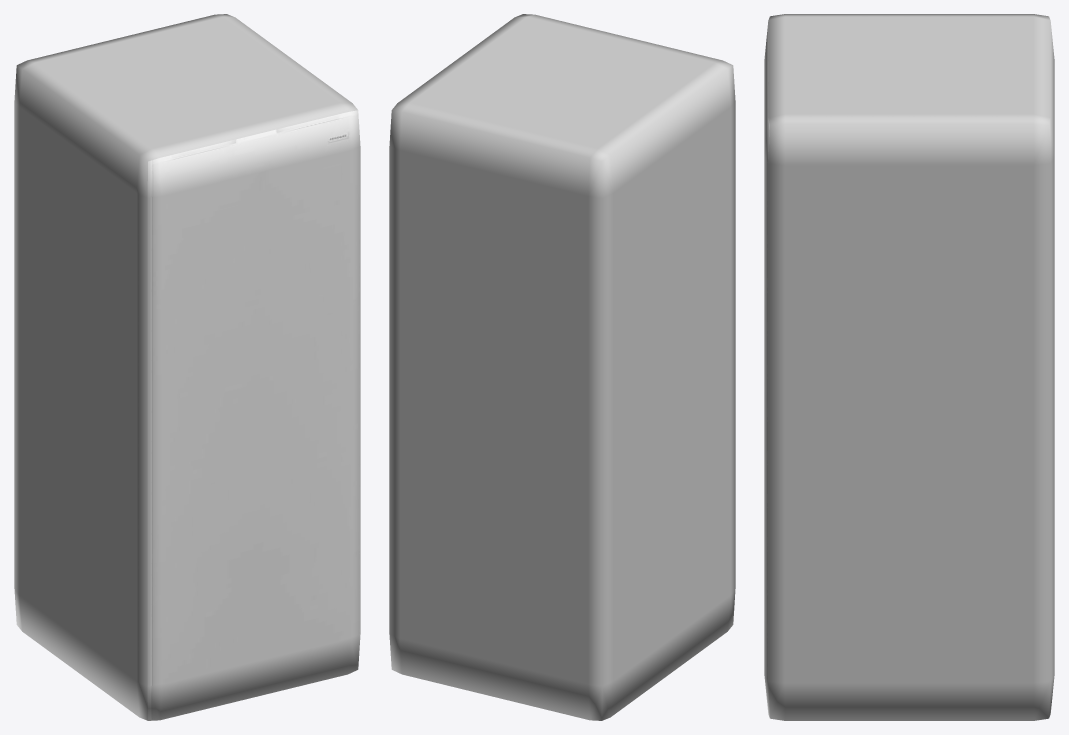
Rendered from freezer.glb.
3 renders of one model, left to right at view 1: azimuth 30°, elevation 25°; view 2: azimuth 150°, elevation 25°; view 3: azimuth 270°, elevation 25°, orthographic. The views are drawn at different scales.
Bounding box in the file's own units: 0.4033 × 1 × 0.4356.
2 materials, 1 textured.
